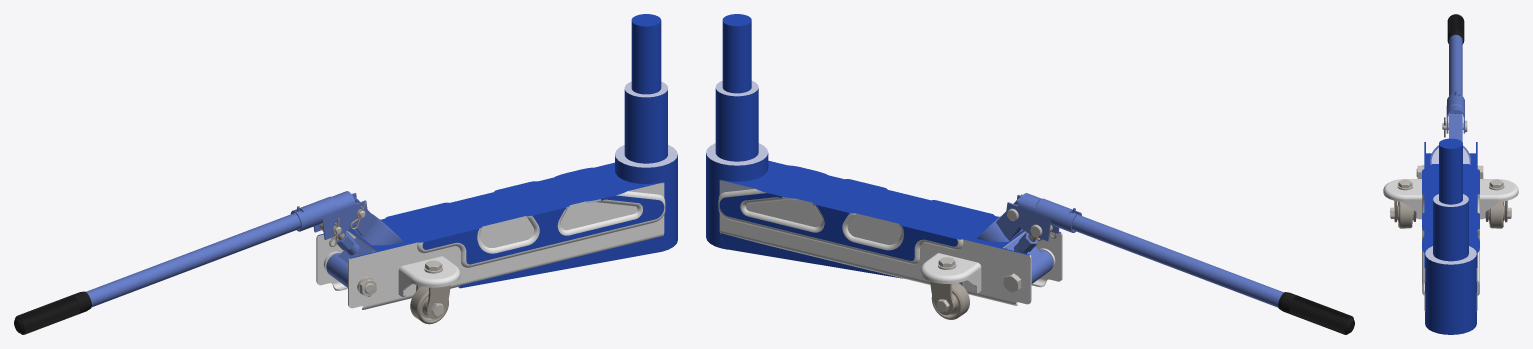
The model's file is jacks.fbx.
The picture shows the model from 3 angles, left to right: view 1: azimuth 30°, elevation 25°; view 2: azimuth 150°, elevation 25°; view 3: azimuth 270°, elevation 25°; orthographic projection. The views are drawn at different scales.
Visible parts, largest first — view 1: Assem3; view 2: Assem3; view 3: Assem3.
Part boxes in pixels (x1=…): Assem3: x1=14, y1=14, x2=677, y2=334; Assem3: x1=706, y1=14, x2=1354, y2=334; Assem3: x1=1383, y1=14, x2=1518, y2=334.
Size of the model in its own units: 81.42 by 26.28 by 17.8.
